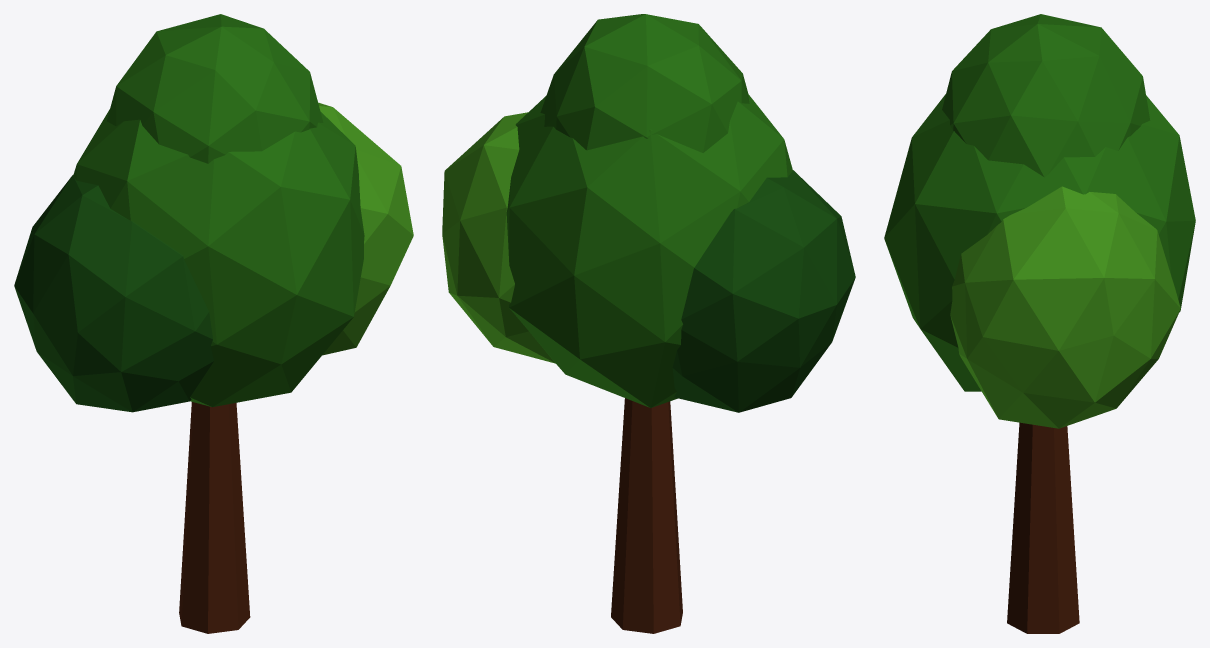
The model's file is LowPoly_Tree_Round.obj.
3 views of the same model, side by side, from view 1: azimuth 30°, elevation 25°; view 2: azimuth 150°, elevation 25°; view 3: azimuth 270°, elevation 25° (orthographic).
Visible parts, largest first — view 1: Canopy_Main, Canopy_Left, Canopy_Top, Trunk, Canopy_Right; view 2: Canopy_Main, Canopy_Left, Canopy_Top, Trunk, Canopy_Right; view 3: Canopy_Right, Canopy_Main, Canopy_Top, Trunk.
Part boxes in pixels (x1,y1,x2,y2): Canopy_Main: [73, 109, 364, 407]; Canopy_Left: [14, 175, 213, 412]; Canopy_Top: [107, 14, 323, 163]; Trunk: [179, 402, 250, 633]; Canopy_Right: [318, 102, 413, 355]; Canopy_Main: [506, 94, 792, 407]; Canopy_Left: [672, 170, 855, 412]; Canopy_Top: [540, 14, 749, 152]; Trunk: [611, 398, 682, 633]; Canopy_Right: [442, 112, 555, 363]; Canopy_Right: [950, 186, 1180, 428]; Canopy_Main: [884, 94, 1195, 391]; Canopy_Top: [942, 14, 1150, 177]; Trunk: [1007, 422, 1079, 633].
Bounding box in the file's own units: 2.54 × 3.9 × 1.84.
